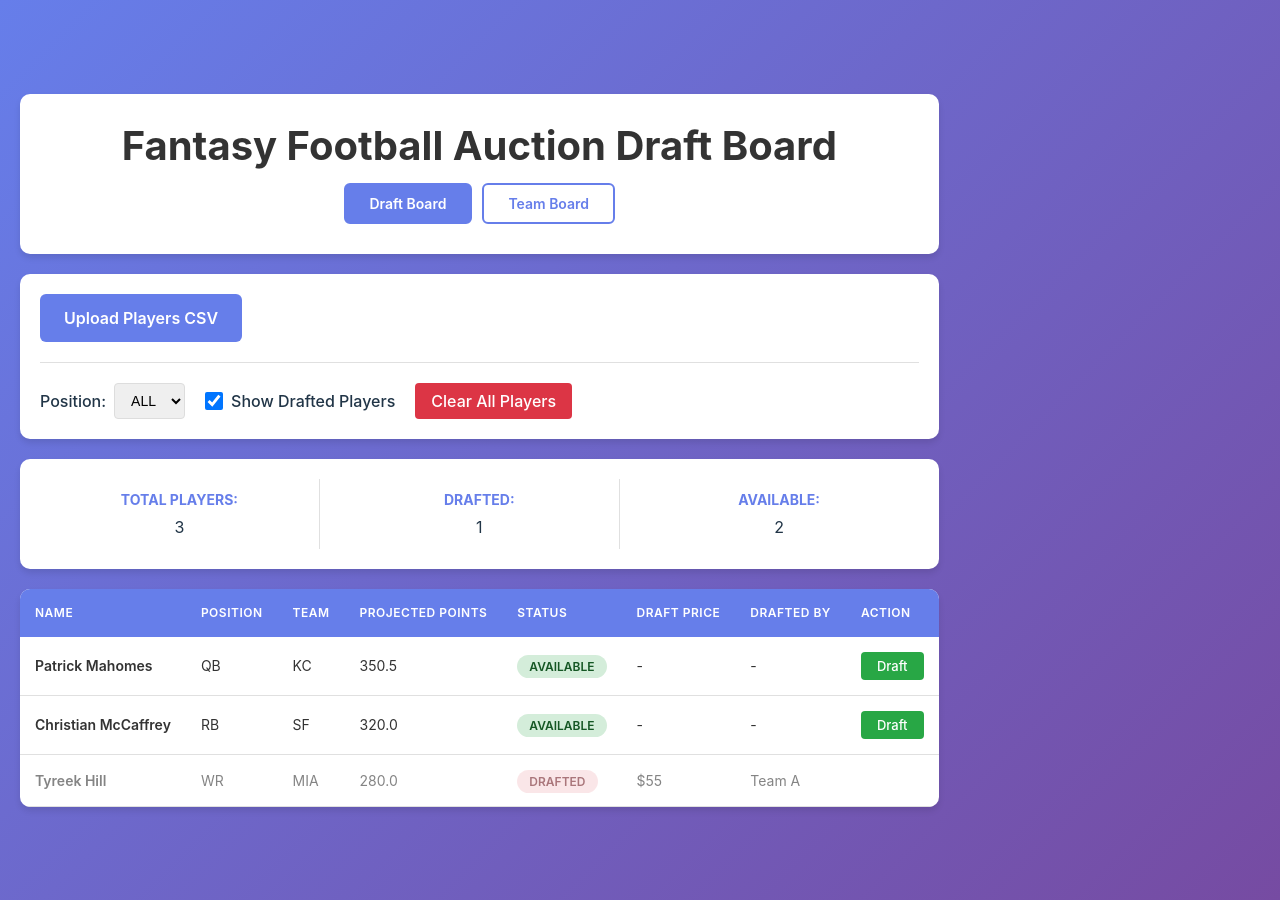
App › Position Filter › filters players by position
expect the text "Patrick Mahomes" is shown: met, box x1=20 y1=636 x2=186 y2=695
Select "QB" in the dropdown: (150, 400) x1=114 y1=382 x2=185 y2=418
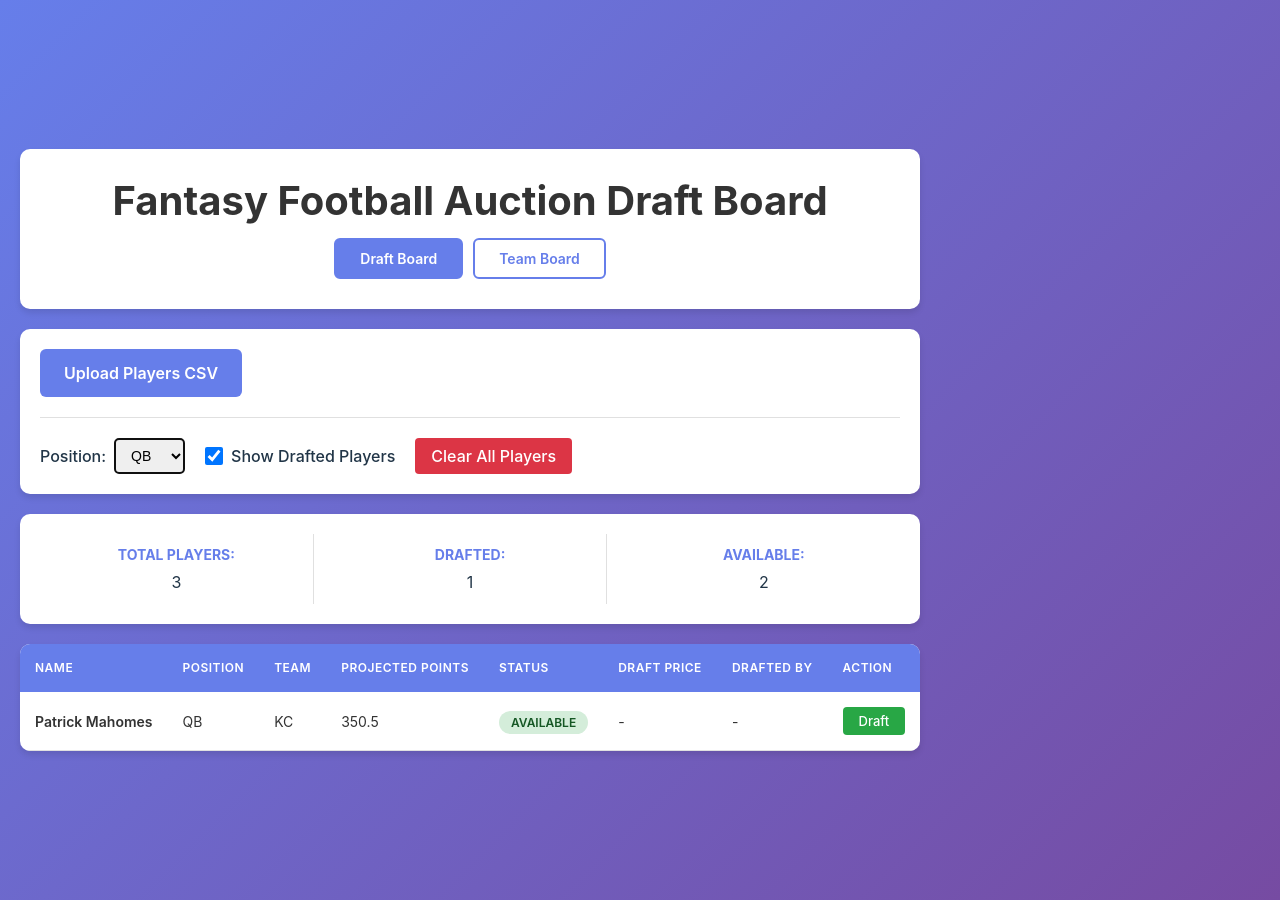
expect the text "Patrick Mahomes" is shown: met, box x1=20 y1=692 x2=168 y2=750
expect the text "Christian McCaffrey" is gone: met
expect the text "Tyreek Hill" is gone: met
